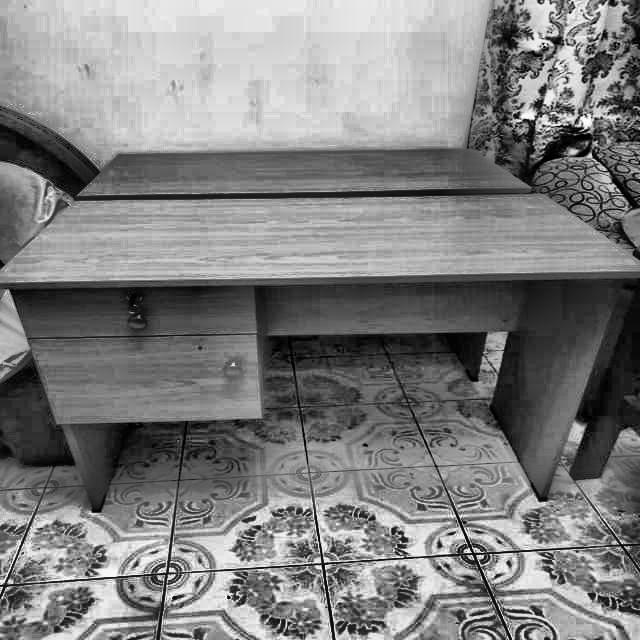mesa: (11, 130, 622, 551)
